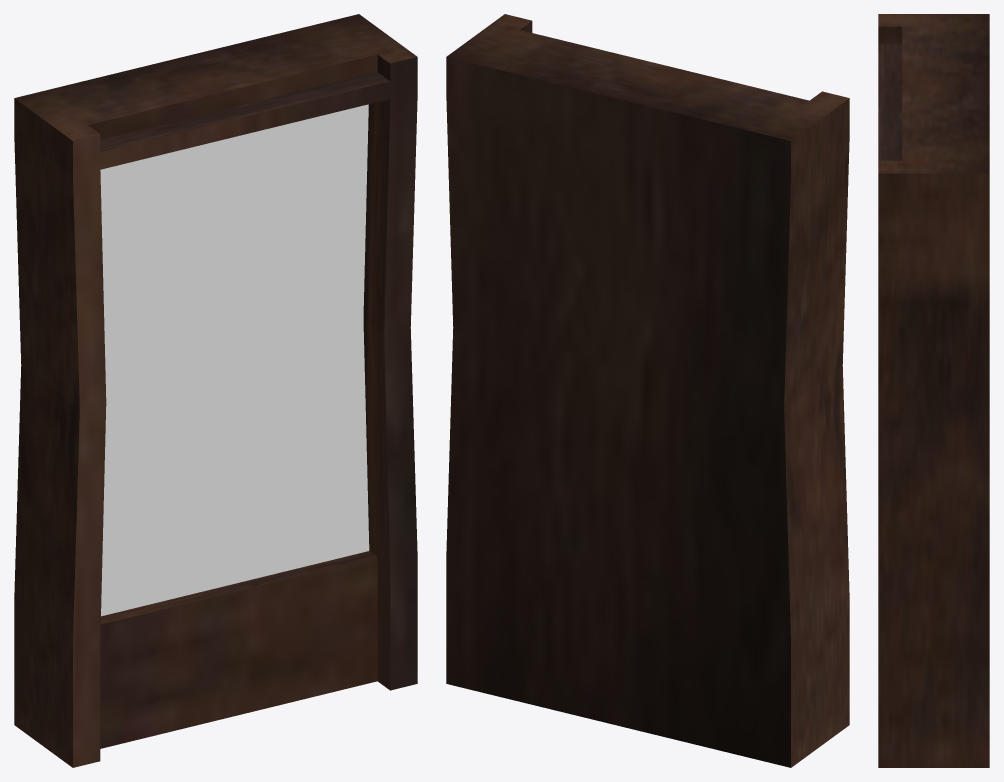
The model's file is Bookshelf 1.fbx.
3 renders of one model, left to right at view 1: azimuth 30°, elevation 25°; view 2: azimuth 150°, elevation 25°; view 3: azimuth 270°, elevation 25°, orthographic. The views are drawn at different scales.
Visible parts, largest first — view 1: Bookshelf 1; view 2: Bookshelf 1; view 3: Bookshelf 1.
Part boxes in pixels (x1,y1,x2,y2): Bookshelf 1: (14, 14, 417, 767); Bookshelf 1: (446, 14, 849, 767); Bookshelf 1: (878, 14, 989, 767).
Bounding box in the file's own units: 748 × 1299 × 220.
Materials: 1 (1 with a texture image).
